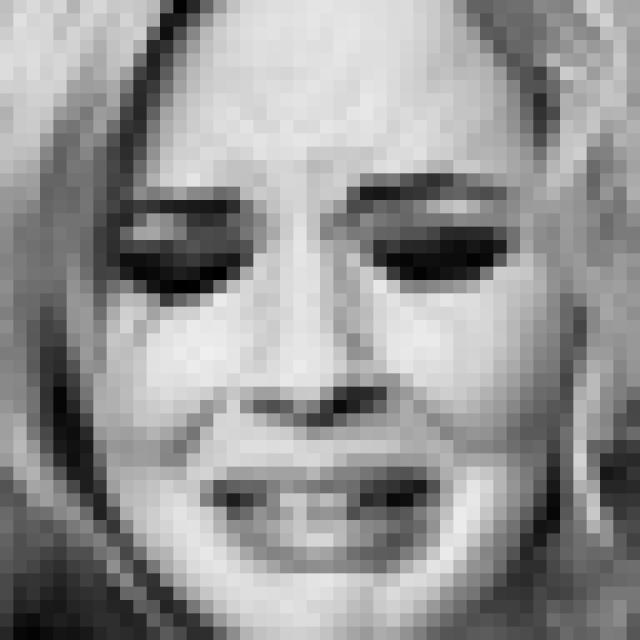sad: (100, 177, 519, 581)
